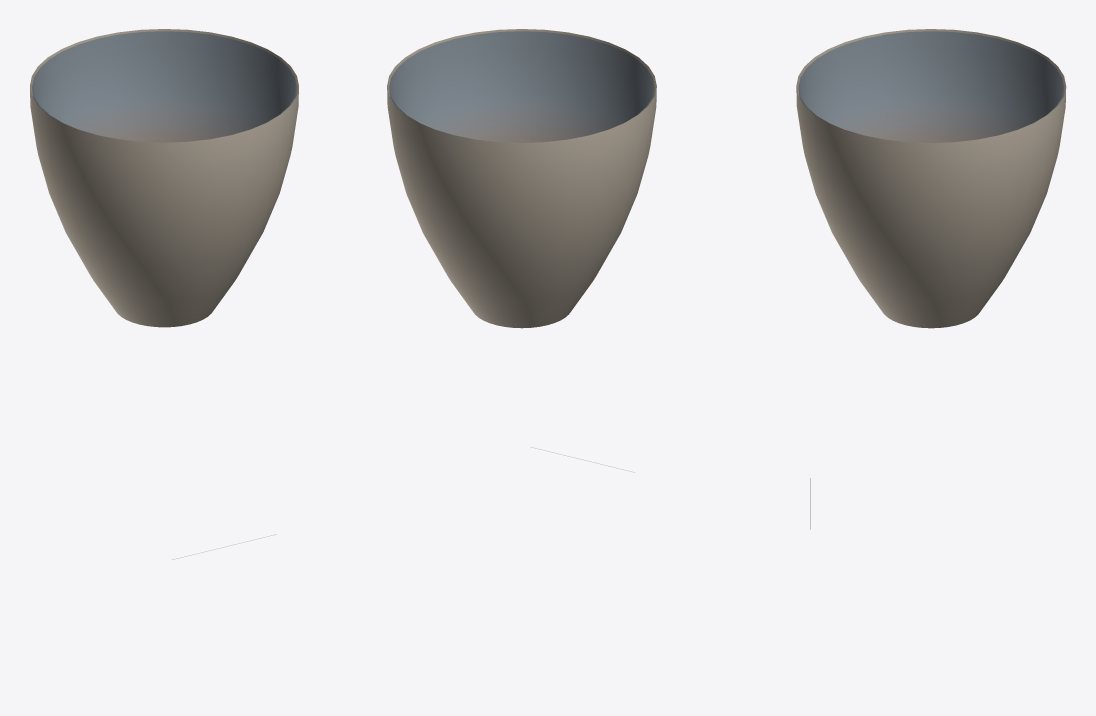
Rendered from grinder-for export.fbx.
3 renders of one model, left to right at view 1: azimuth 30°, elevation 25°; view 2: azimuth 150°, elevation 25°; view 3: azimuth 270°, elevation 25°, orthographic.
Visible parts, largest first — view 1: beans_1; view 2: beans_1; view 3: beans_1.
Part boxes in pixels (x1,y1,x2,y2): beans_1: (30, 29, 298, 559); beans_1: (387, 29, 656, 472); beans_1: (796, 29, 1066, 529).
Size of the model in its own units: 181 by 378 by 211.
Materials: 1 (1 with a texture image).
